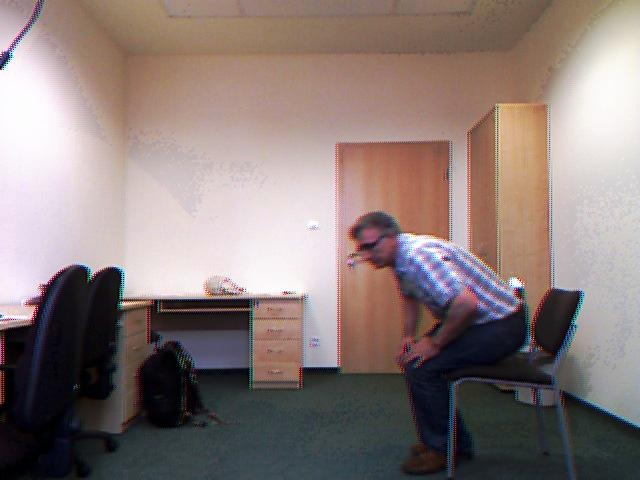near-fall: (338, 205, 538, 480)
